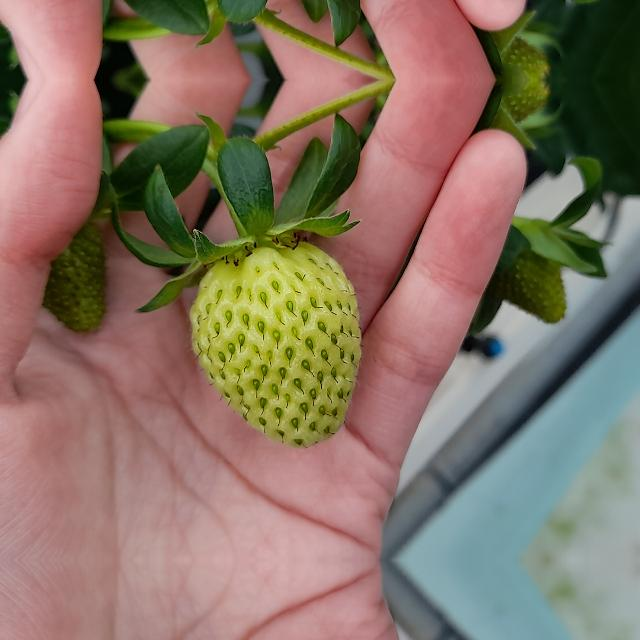Health_25: (190, 242, 360, 448)
